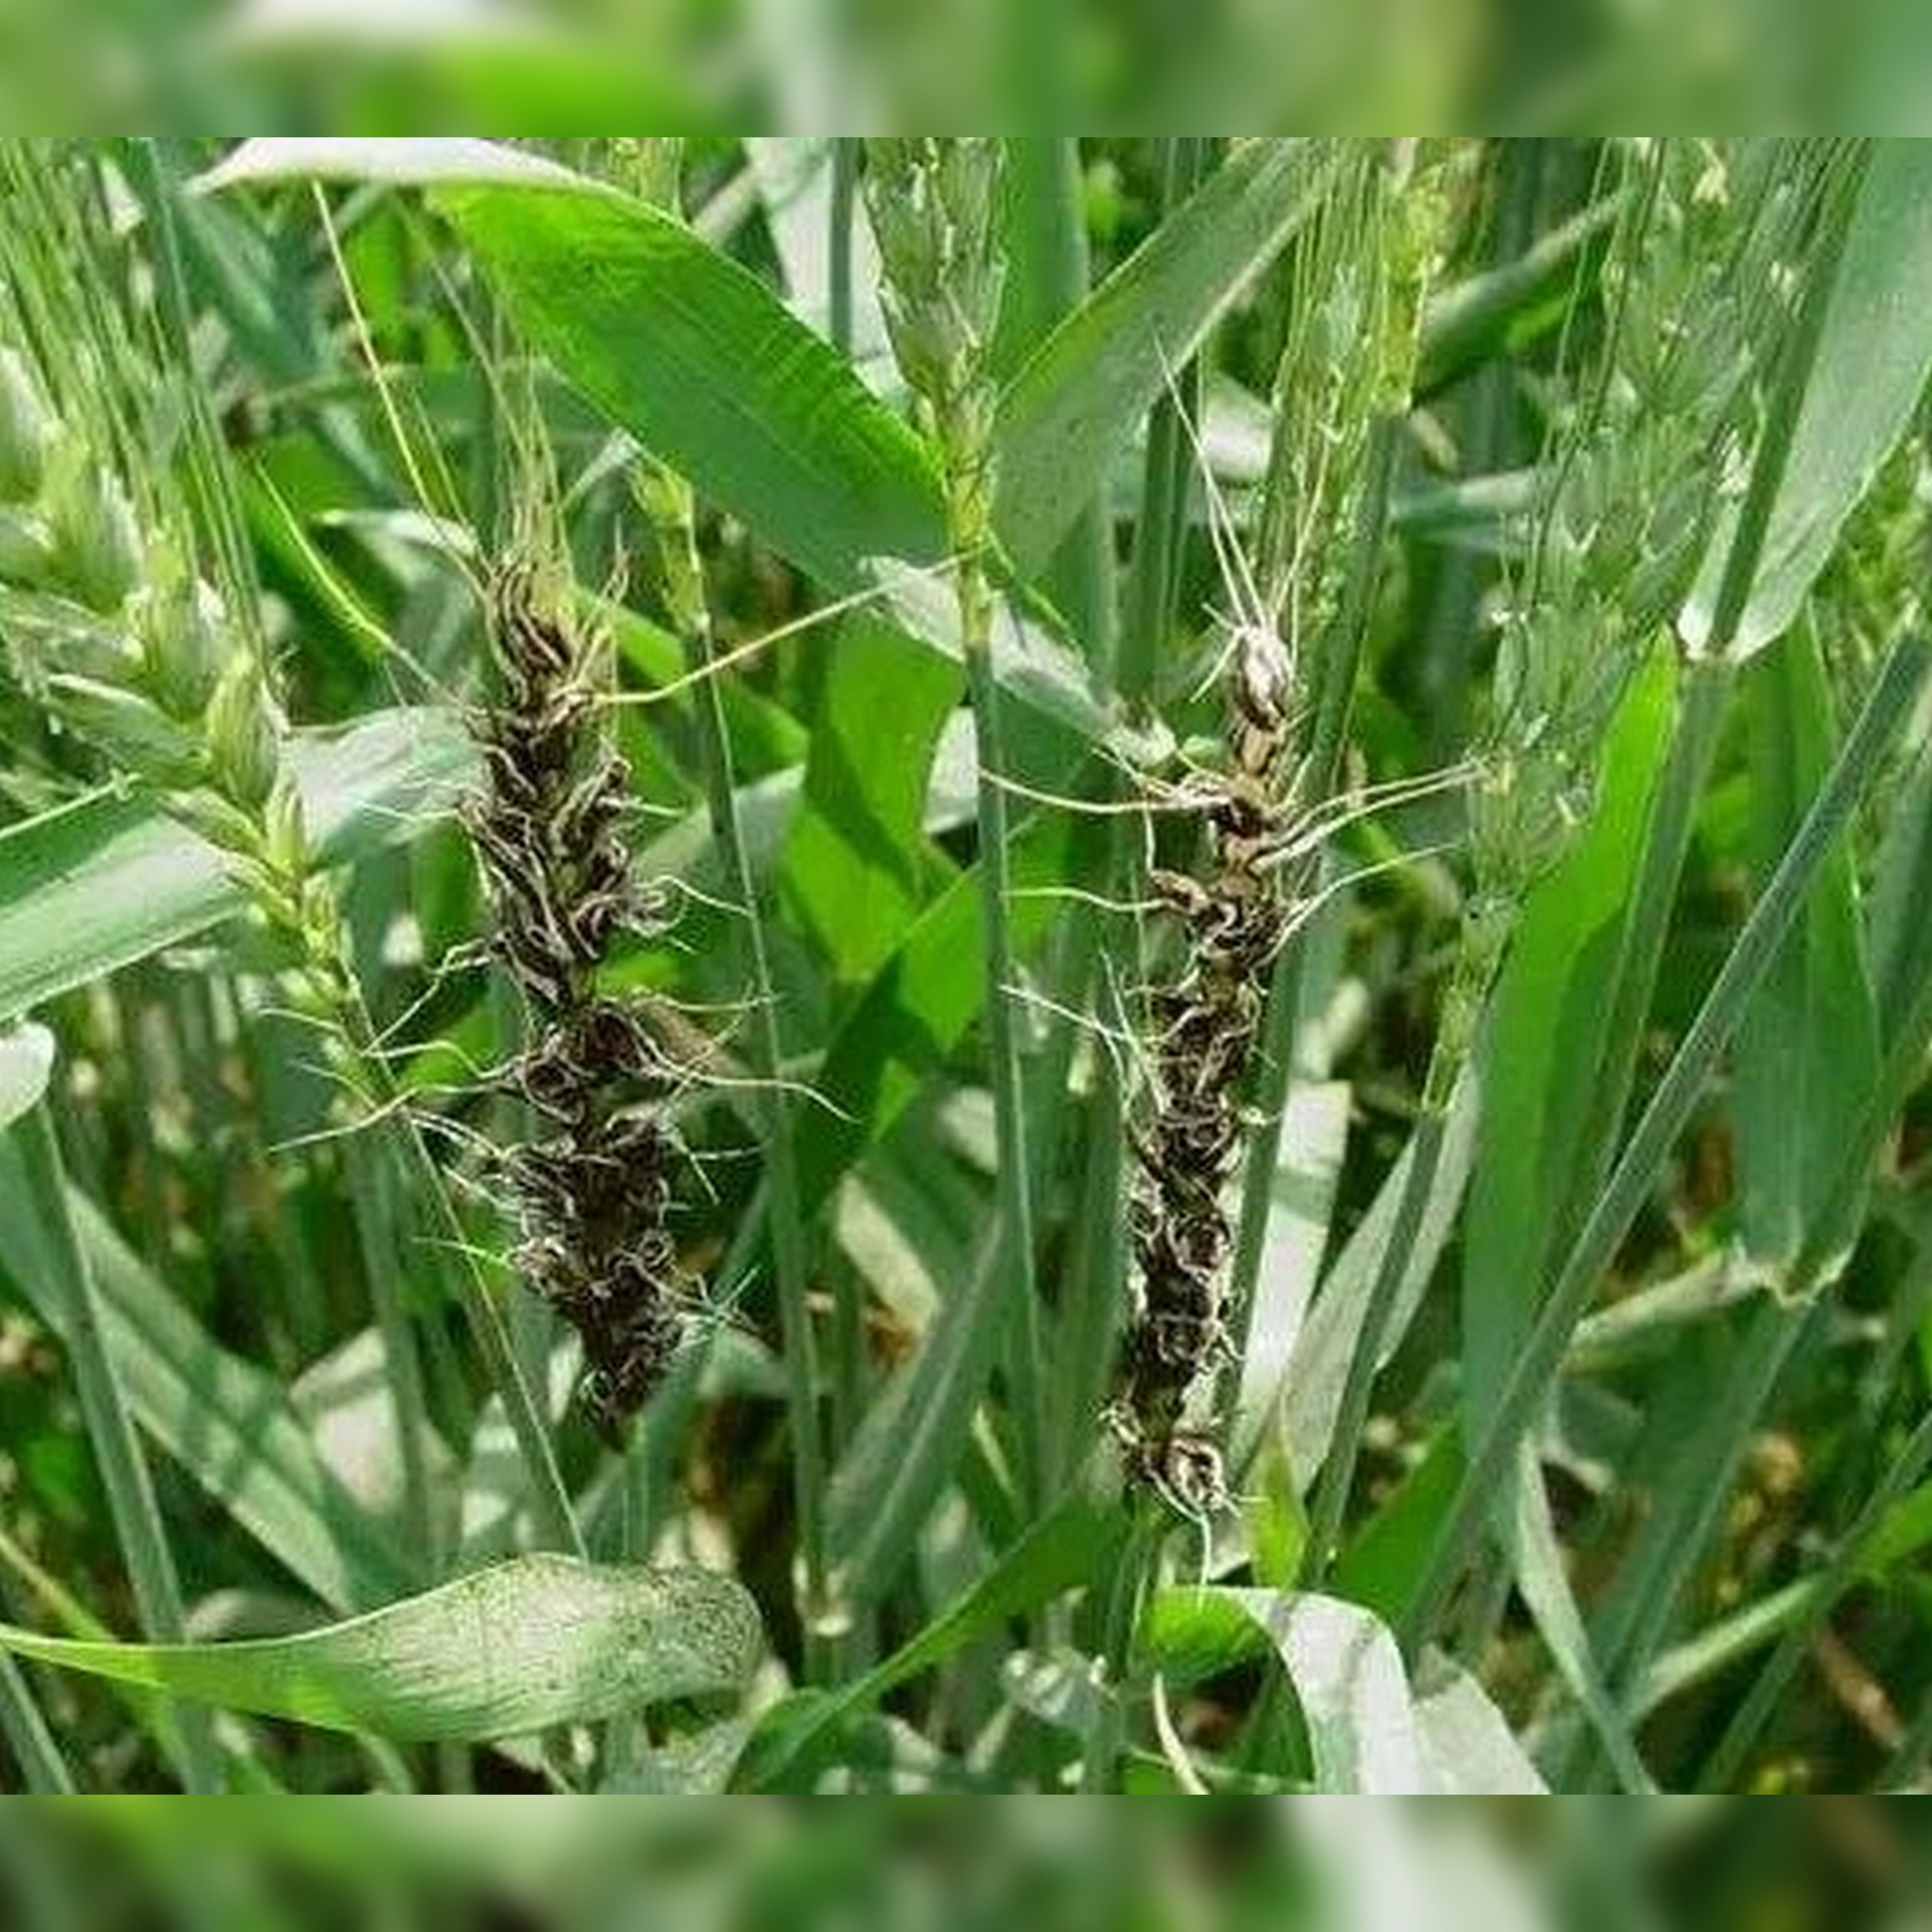Wheat Loose Smut: (426, 536, 722, 1385), (1104, 683, 1357, 1539)
